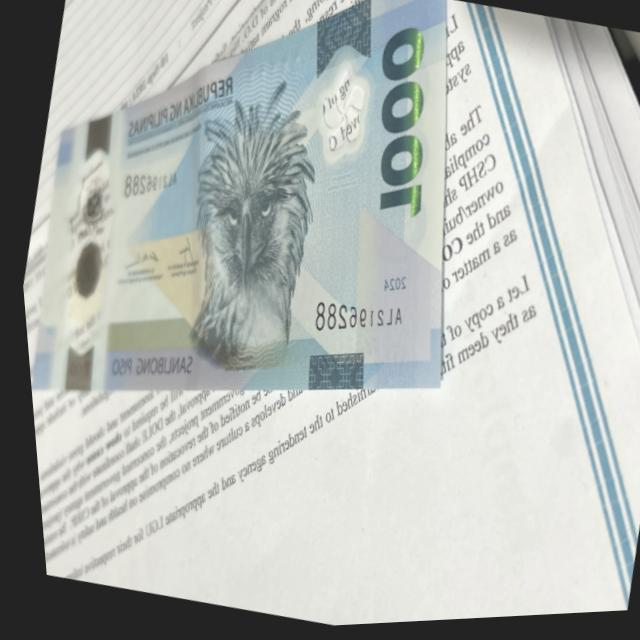clear_window: (24, 127, 139, 385)
eagle: (149, 79, 337, 376)
sampaguita: (307, 61, 379, 174)
serial_number: (292, 287, 422, 363)
